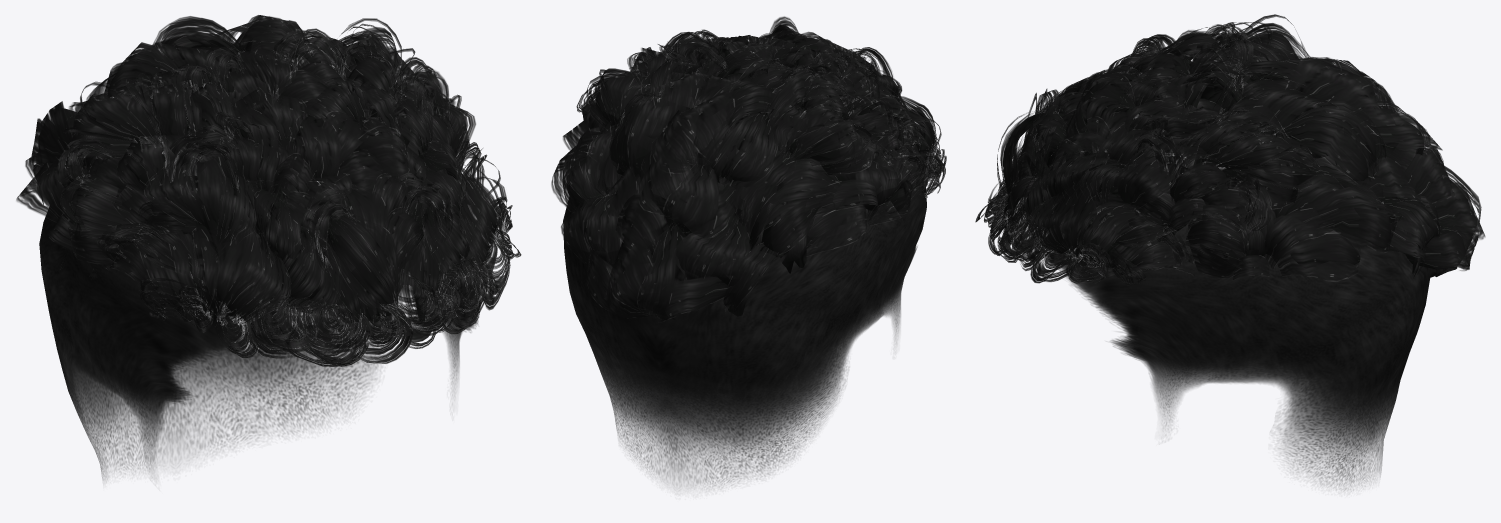
The model's file is Fringe.glb.
3 views of the same model, side by side, from view 1: azimuth 30°, elevation 25°; view 2: azimuth 150°, elevation 25°; view 3: azimuth 270°, elevation 25° (orthographic). The views are drawn at different scales.
Visible parts, largest first — view 1: FRINGE, Scalp FRINGE; view 2: FRINGE, Scalp FRINGE; view 3: FRINGE, Scalp FRINGE.
Part boxes in pixels (x1,y1,x2,y2): FRINGE: (16, 15, 521, 366); Scalp FRINGE: (39, 108, 485, 480); FRINGE: (551, 16, 946, 322); Scalp FRINGE: (563, 104, 926, 488); FRINGE: (975, 14, 1485, 285); Scalp FRINGE: (1026, 121, 1430, 490).
Size of the model in its own units: 0.2245 by 0.2688 by 0.283.
Materials: 2 (2 with a texture image).
